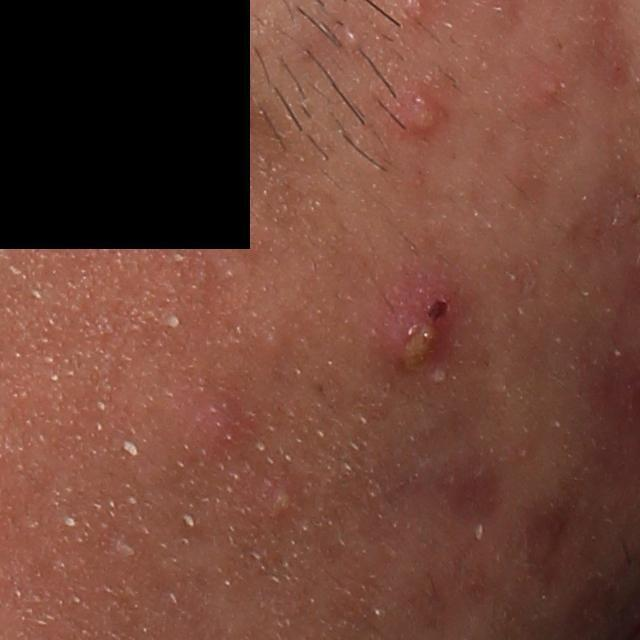other: (116, 437, 143, 458), (61, 513, 80, 528), (166, 314, 182, 331)
papule: (161, 374, 253, 474), (523, 66, 563, 102)
pustule: (385, 313, 444, 375), (396, 89, 446, 138), (268, 480, 297, 522)
